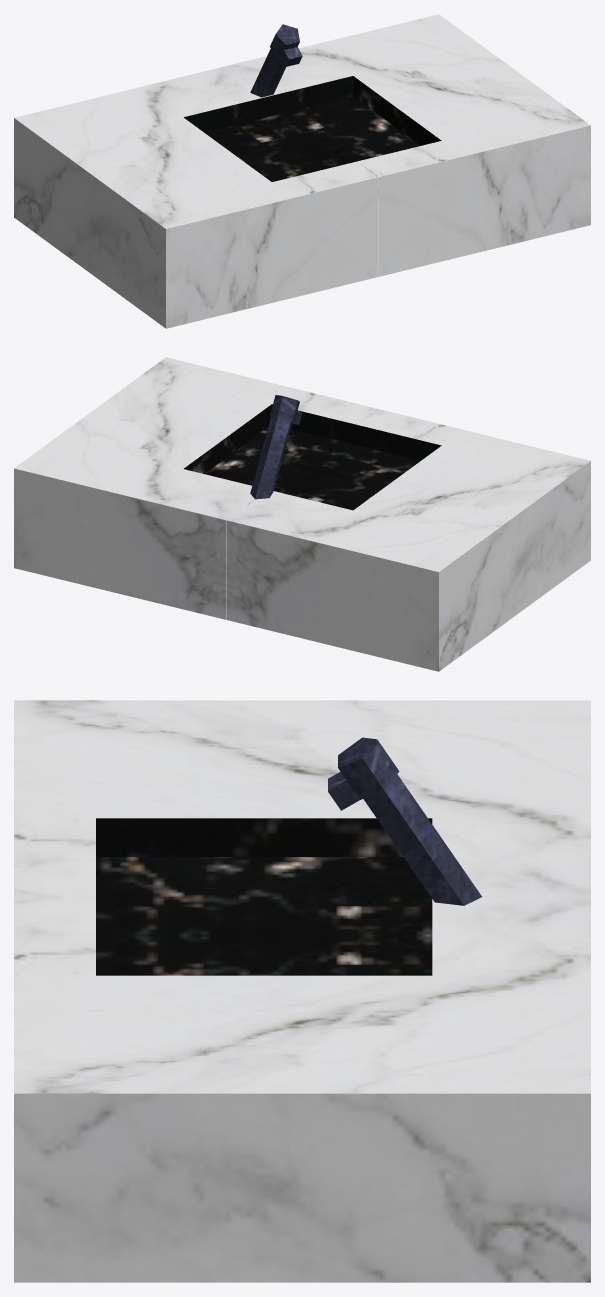
Rendered from nicebathroomsink.gltf.
The picture shows the model from 3 angles, top to bottom: view 1: azimuth 30°, elevation 25°; view 2: azimuth 150°, elevation 25°; view 3: azimuth 270°, elevation 25°; orthographic projection. The views are drawn at different scales.
Parts seen in each view (by area): view 1: Cube; view 2: Cube; view 3: Cube.
Part boxes in pixels (<box>): Cube: <box>14,14,590,328</box>; Cube: <box>14,357,590,671</box>; Cube: <box>14,700,590,1282</box>.
Bounding box in the file's own units: 3.23 × 1.33 × 2.
Materials: 1 (1 with a texture image).
